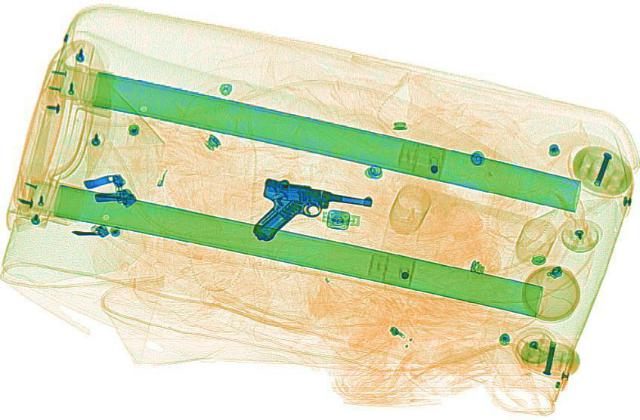Gun: (237, 176, 376, 254)
